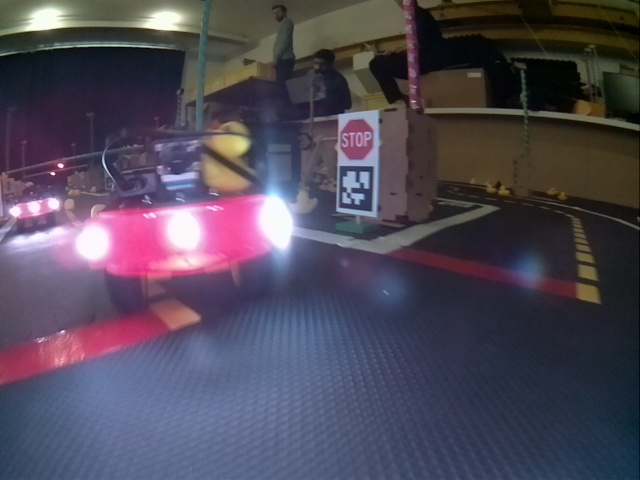Duckie: (201, 123, 258, 190)
Duckiebot: (79, 153, 291, 305), (9, 188, 60, 230)
QR code: (339, 166, 376, 212)
Stop sign: (341, 120, 375, 162)
